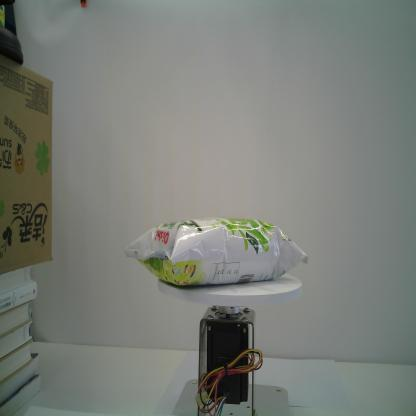Puffed Food: (124, 216, 309, 286)
